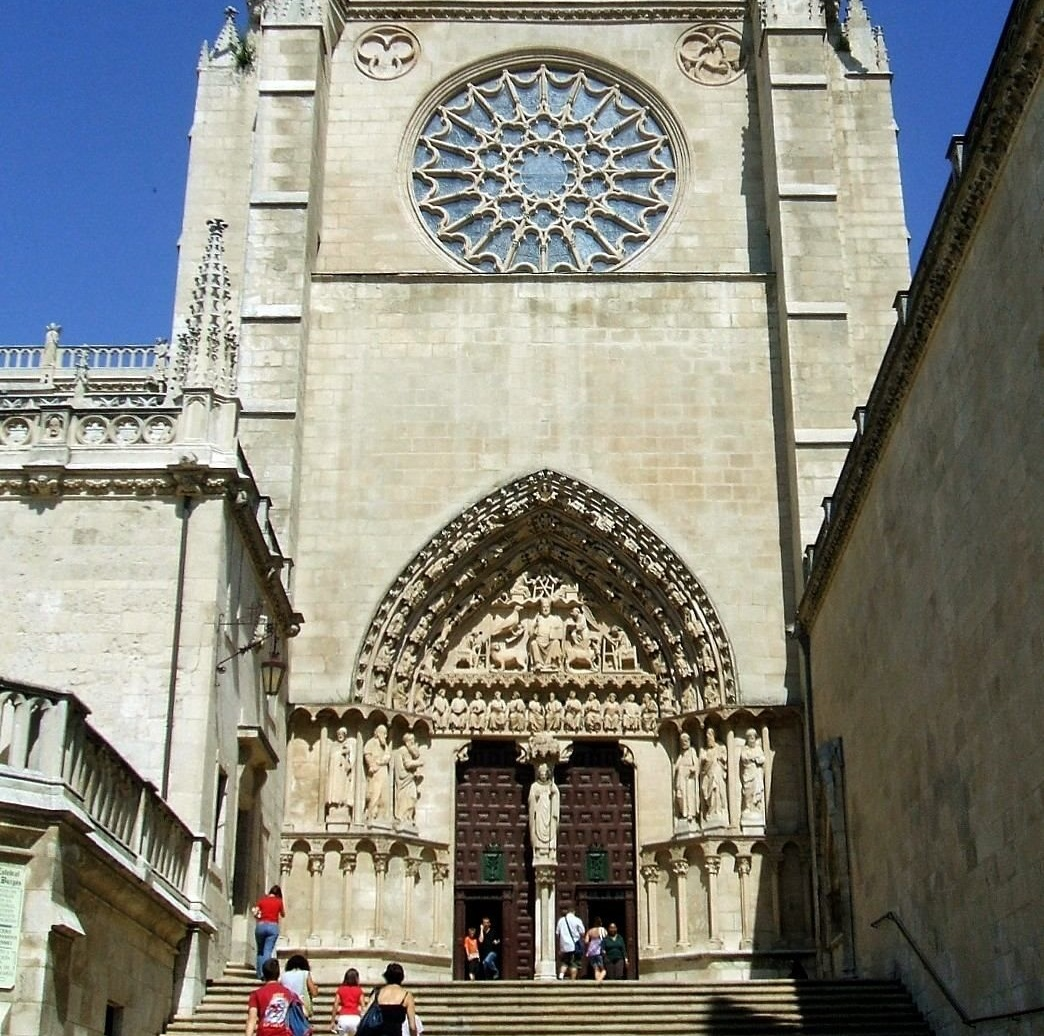arco-apuntado: (348, 466, 742, 702)
pinaculo-gotico: (177, 212, 241, 399)
